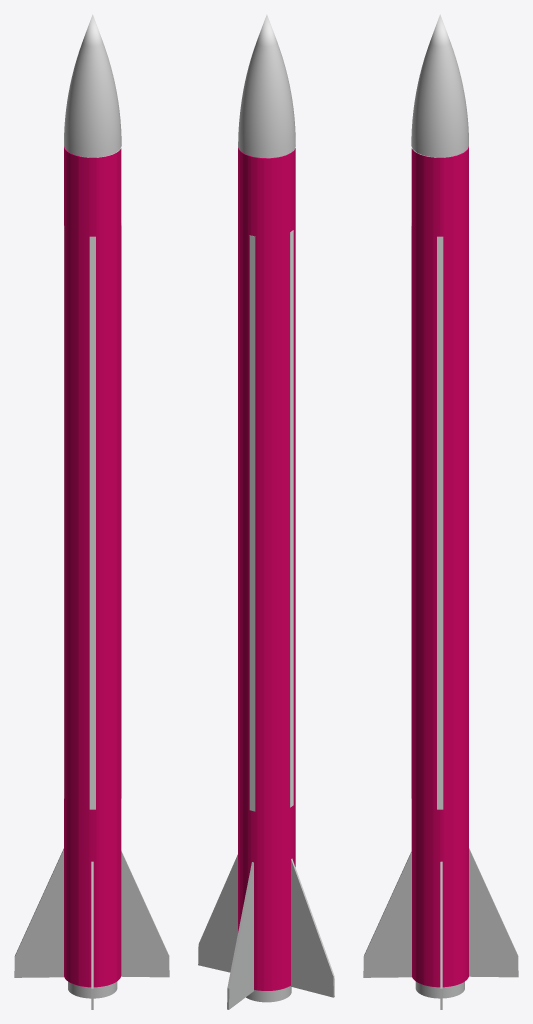
File: red_missile.fbx
The picture shows the model from 3 angles, left to right: view 1: azimuth 90°, elevation 25°; view 2: azimuth 150°, elevation 25°; view 3: azimuth 270°, elevation 25°; orthographic projection.
Parts seen in each view (by area): view 1: polySurface1; view 2: polySurface1; view 3: polySurface1.
Part boxes in pixels (x1,y1,x2,y2): polySurface1: (14,14,169,1009); polySurface1: (198,14,334,1009); polySurface1: (363,14,518,1009).
Bounding box in the file's own units: 1.14 × 7.87 × 1.14.
